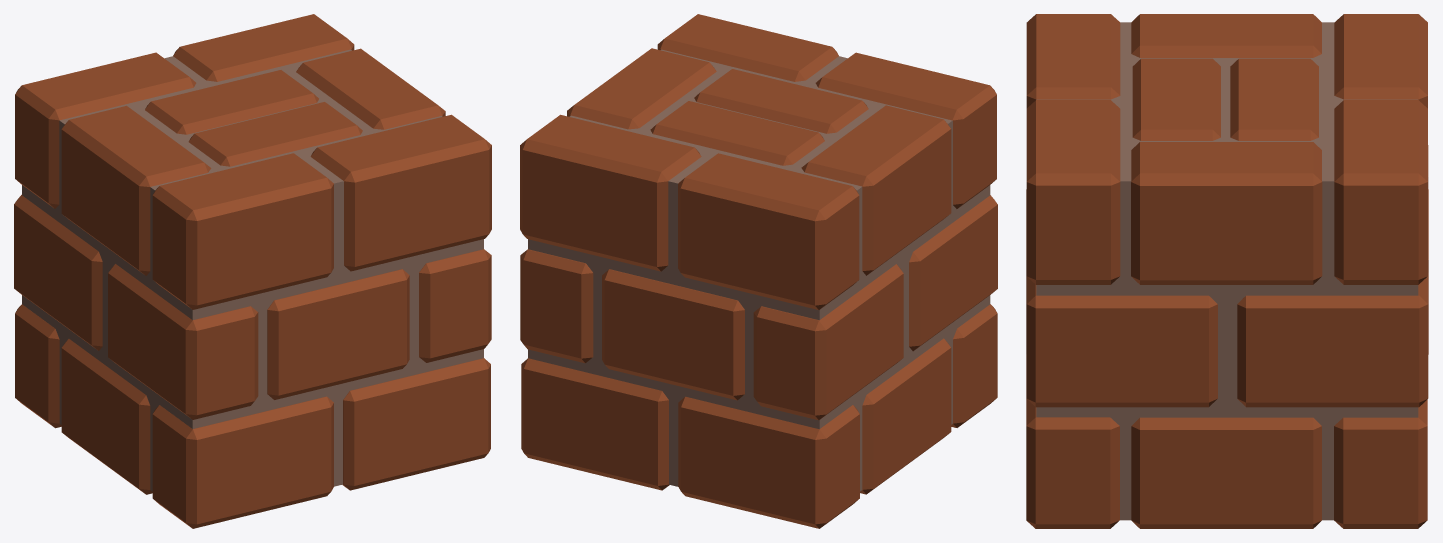
The model's file is cube-brick.glb.
The picture shows the model from 3 angles, left to right: view 1: azimuth 30°, elevation 25°; view 2: azimuth 150°, elevation 25°; view 3: azimuth 270°, elevation 25°; orthographic projection. The views are drawn at different scales.
Parts seen in each view (by area): view 1: Box002_Outside Brick_0, Box023, Box003_Outside Brick_0, Box006_Outside Brick_0, Box001_Outside Brick_0, Box007_Outside Brick_0, Box004_Outside Brick_0, Box008_Outside Brick_0, Box009_Outside Brick_0, Box017_Outside Brick_0, Box012_Outside Brick_0, Box005_Outside Brick_0 (+5 smaller); view 2: Box009_Outside Brick_0, Box010_Outside Brick_0, Box023, Box015_Outside Brick_0, Box012_Outside Brick_0, Box016_Outside Brick_0, Box013_Outside Brick_0, Box008_Outside Brick_0, Box002_Outside Brick_0, Box017_Outside Brick_0, Box001_Outside Brick_0, Box014_Outside Brick_0 (+5 smaller); view 3: Box011_Outside Brick_0, Box023, Box014_Outside Brick_0, Box005_Outside Brick_0, Box018_Outside Brick_0, Box003_Outside Brick_0, Box010_Outside Brick_0, Box007_Outside Brick_0, Box016_Outside Brick_0, Box008_Outside Brick_0, Box002_Outside Brick_0, Box009_Outside Brick_0 (+2 smaller).
Boxes of the visible parts, x1,y1,x2,y2 form: Box002_Outside Brick_0: (152, 153, 333, 309); Box023: (22, 49, 483, 491); Box003_Outside Brick_0: (310, 114, 491, 271); Box006_Outside Brick_0: (152, 396, 333, 528); Box001_Outside Brick_0: (108, 264, 258, 419); Box007_Outside Brick_0: (342, 358, 490, 490); Box004_Outside Brick_0: (267, 269, 409, 399); Box008_Outside Brick_0: (61, 105, 211, 275); Box009_Outside Brick_0: (15, 52, 196, 208); Box017_Outside Brick_0: (61, 339, 152, 494); Box012_Outside Brick_0: (14, 194, 102, 350); Box005_Outside Brick_0: (419, 249, 491, 362); Box009_Outside Brick_0: (678, 153, 859, 309); Box010_Outside Brick_0: (520, 114, 701, 271); Box023: (528, 49, 990, 491); Box015_Outside Brick_0: (678, 396, 859, 528); Box012_Outside Brick_0: (753, 264, 903, 420); Box016_Outside Brick_0: (521, 358, 669, 490); Box013_Outside Brick_0: (602, 269, 744, 400); Box008_Outside Brick_0: (801, 105, 951, 275); Box002_Outside Brick_0: (815, 52, 996, 208); Box017_Outside Brick_0: (860, 338, 951, 494); Box001_Outside Brick_0: (909, 195, 997, 351); Box014_Outside Brick_0: (520, 249, 593, 363); Box011_Outside Brick_0: (1131, 142, 1322, 284); Box023: (1036, 22, 1418, 520); Box014_Outside Brick_0: (1237, 273, 1428, 407); Box005_Outside Brick_0: (1026, 276, 1217, 407); Box018_Outside Brick_0: (1131, 417, 1321, 528); Box003_Outside Brick_0: (1026, 100, 1120, 284); Box010_Outside Brick_0: (1334, 100, 1427, 284); Box007_Outside Brick_0: (1026, 354, 1119, 528); Box016_Outside Brick_0: (1334, 399, 1427, 528); Box008_Outside Brick_0: (1131, 14, 1321, 57); Box002_Outside Brick_0: (1026, 14, 1120, 108); Box009_Outside Brick_0: (1334, 14, 1427, 108).
Size of the model in its own units: 0.9675 by 0.96 by 0.9835.
4 materials, 3 textured.
